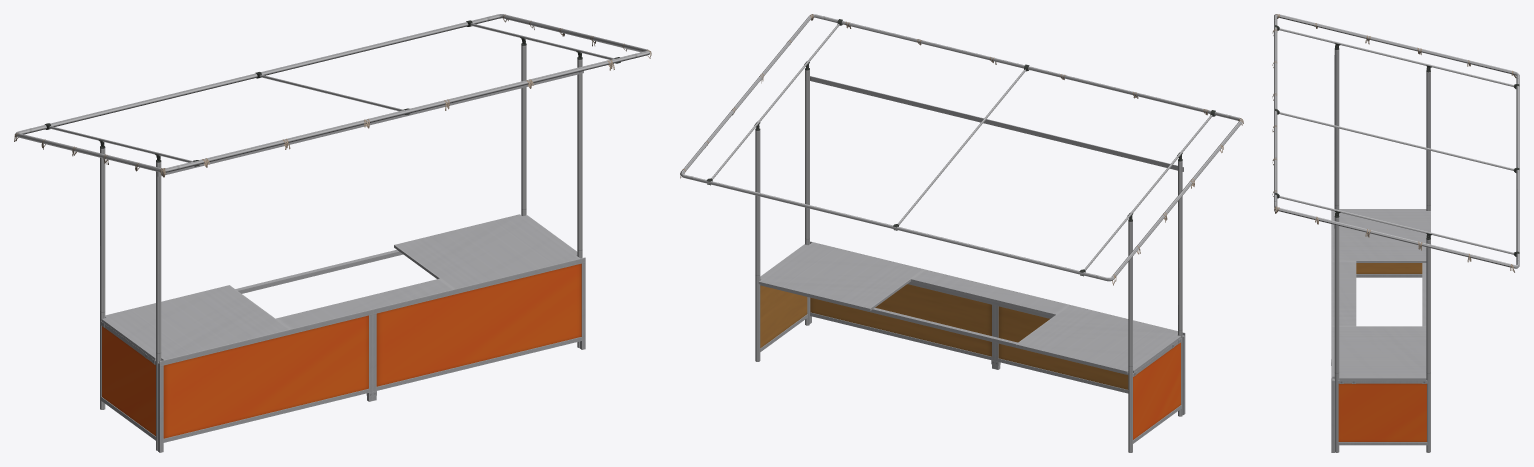
File: jsf_4P_s04_c01_t02.fbx
3 views of the same model, side by side, from view 1: azimuth 30°, elevation 25°; view 2: azimuth 150°, elevation 25°; view 3: azimuth 270°, elevation 25° (orthographic). The views are drawn at different scales.
Parts seen in each view (by area): view 1: Base_s04_c01, Table_4P_s04_t02, Pillar4_s04, Rope_4P_s04; view 2: Base_s04_c01, Table_4P_s04_t02, Pillar4_s04; view 3: Table_4P_s04_t02, Pillar4_s04, Base_s04_c01, Rope_4P_s04.
Part boxes in pixels (bbox=[...]): Base_s04_c01: bbox=[100, 257, 585, 452]; Table_4P_s04_t02: bbox=[101, 214, 579, 364]; Pillar4_s04: bbox=[14, 14, 649, 450]; Rope_4P_s04: bbox=[14, 14, 651, 177]; Base_s04_c01: bbox=[760, 241, 1185, 443]; Table_4P_s04_t02: bbox=[758, 242, 1181, 376]; Pillar4_s04: bbox=[680, 14, 1242, 452]; Table_4P_s04_t02: bbox=[1332, 209, 1430, 383]; Pillar4_s04: bbox=[1274, 14, 1519, 452]; Base_s04_c01: bbox=[1331, 210, 1427, 452]; Rope_4P_s04: bbox=[1272, 14, 1516, 272].
Size of the model in its own units: 395 by 243 by 211.
